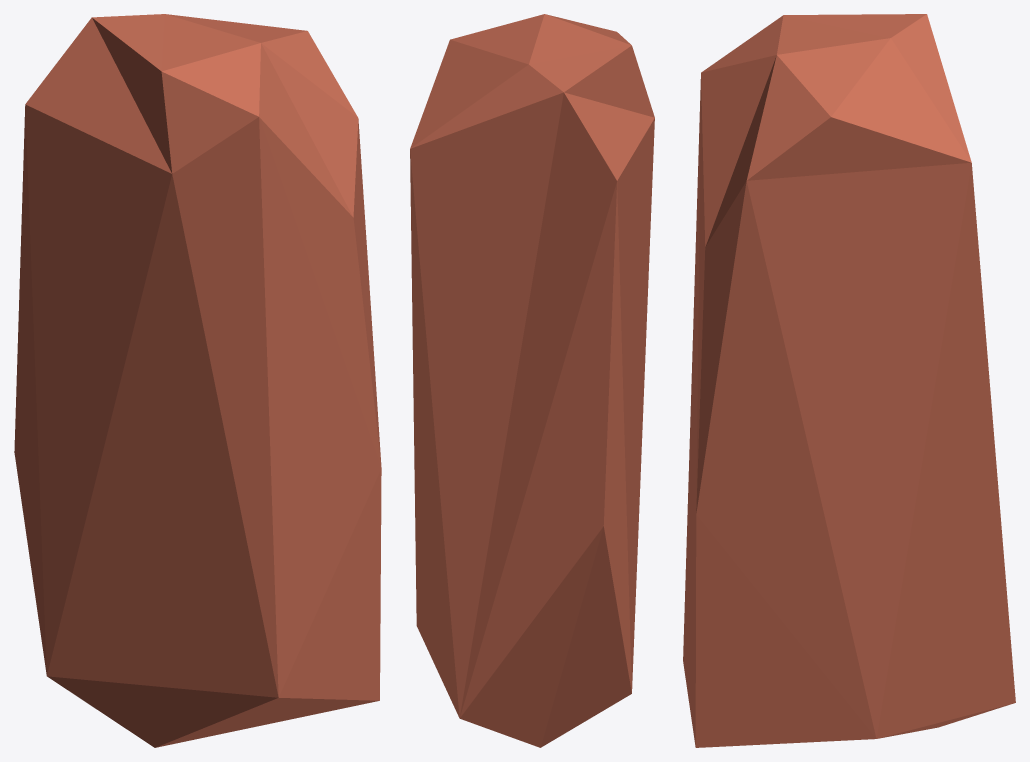
Rendered from boulder_003.fbx.
The picture shows the model from 3 angles, left to right: view 1: azimuth 30°, elevation 25°; view 2: azimuth 150°, elevation 25°; view 3: azimuth 270°, elevation 25°; orthographic projection. The views are drawn at different scales.
Visible parts, largest first — view 1: boulder_003; view 2: boulder_003; view 3: boulder_003.
Boxes of the visible parts, x1,y1,x2,y2 form: boulder_003: (14, 14, 381, 747); boulder_003: (410, 14, 654, 747); boulder_003: (683, 14, 1015, 747).
Bounding box in the file's own units: 585 × 687 × 1615.
